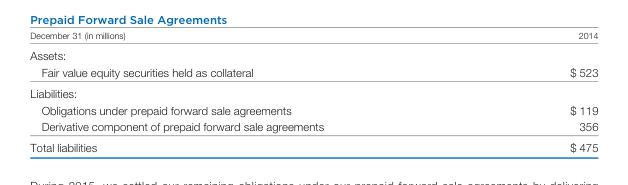table: (29, 29, 597, 153)
table column: (29, 29, 446, 153), (446, 29, 597, 153)
table column header: (29, 29, 597, 43)
table projected row header: (29, 43, 597, 63), (29, 82, 597, 101)
table row: (29, 43, 597, 63), (29, 63, 597, 82), (29, 82, 597, 101), (29, 117, 597, 136), (29, 136, 597, 153), (29, 101, 597, 117), (29, 29, 597, 43)
